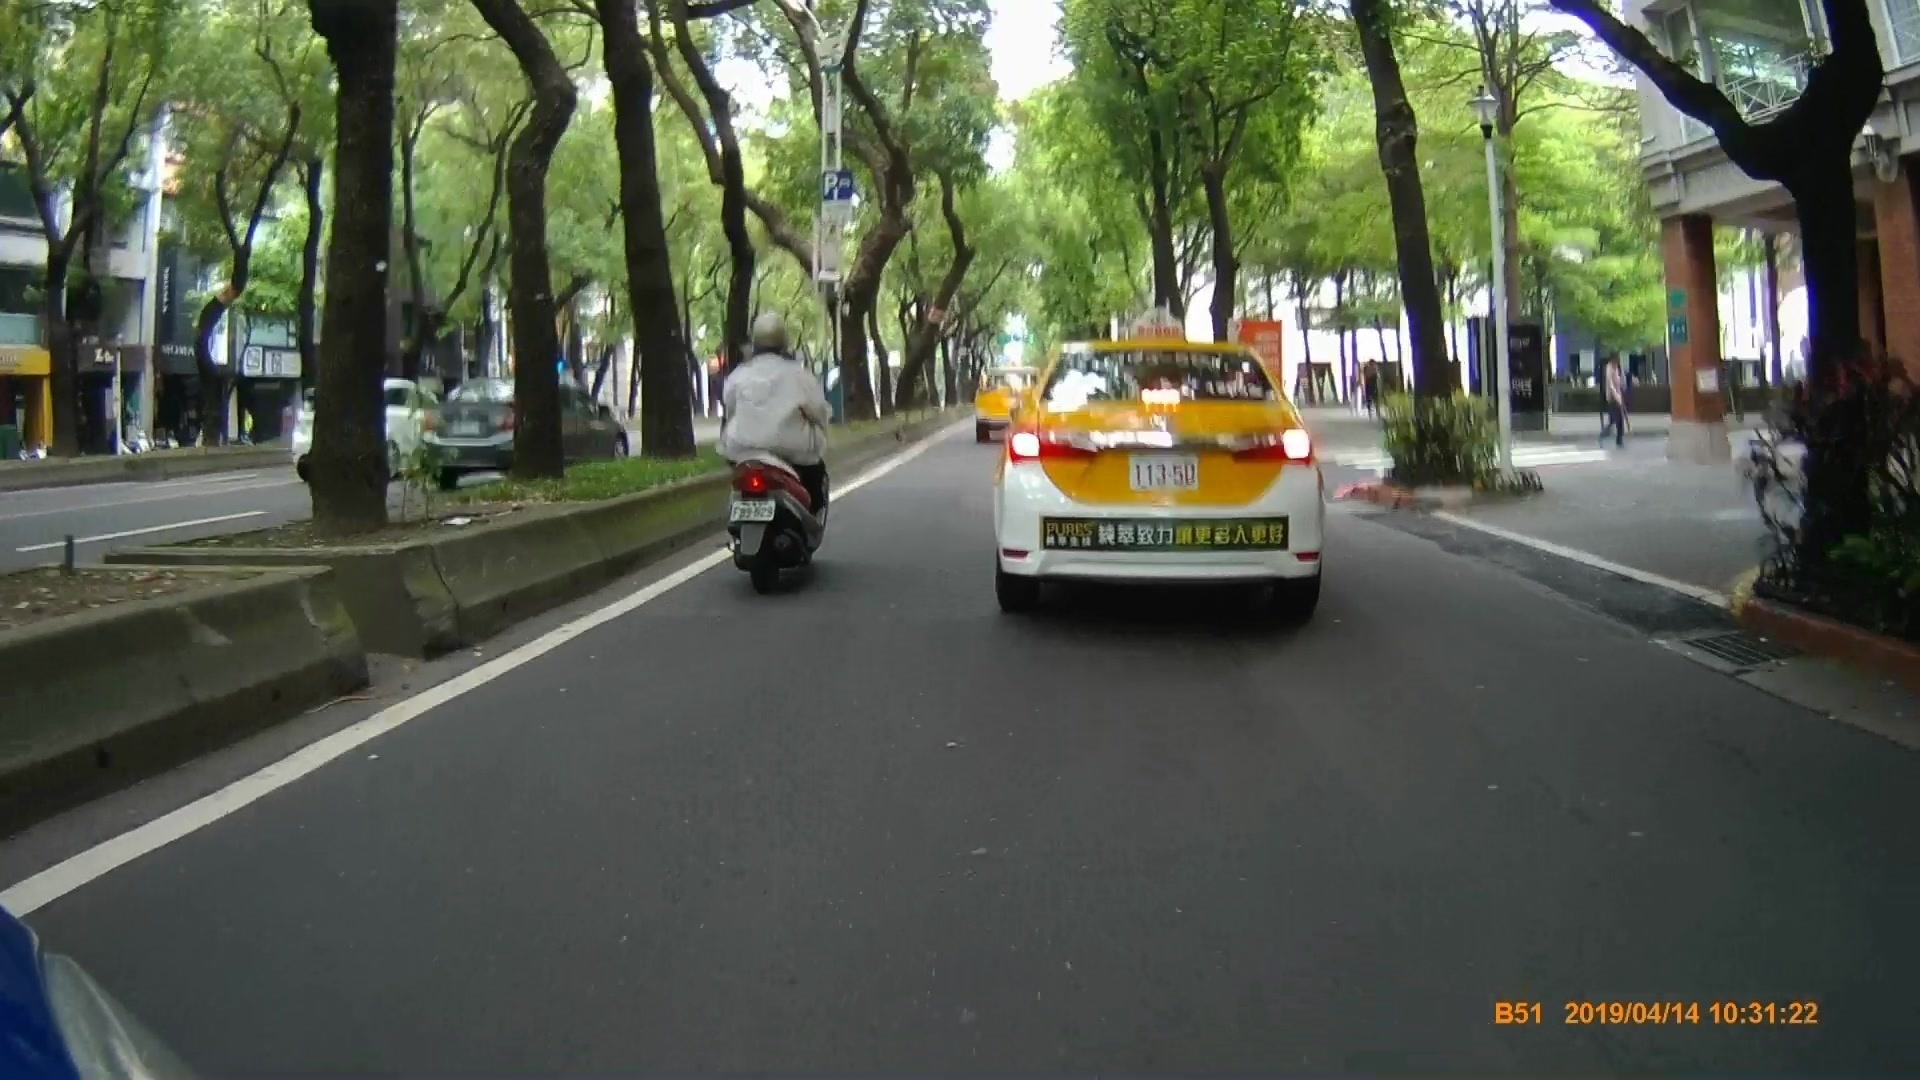License_plate: (1129, 453, 1199, 493), (732, 499, 777, 522)
